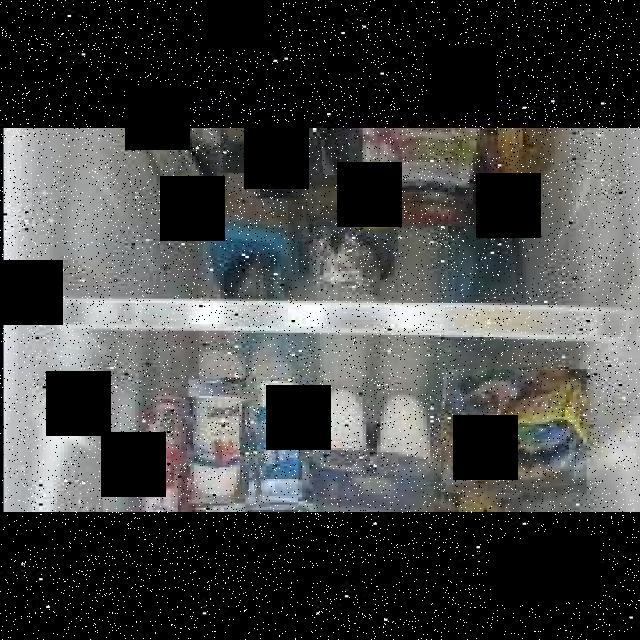avocado: (270, 128, 345, 175), (252, 128, 298, 196), (217, 128, 267, 173)
sausage: (441, 370, 583, 494)
yogurt: (242, 378, 298, 508), (183, 377, 240, 500)
